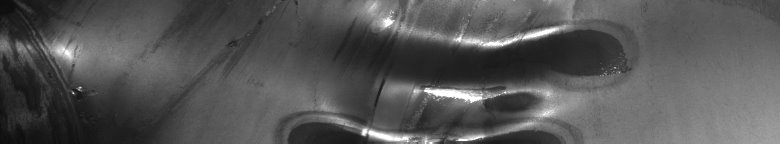ke: (228, 4, 626, 136)
